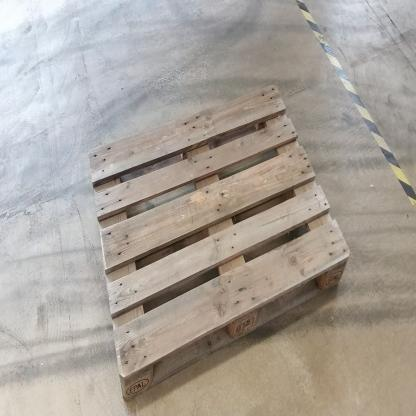BoxFace: (83, 76, 354, 409)
